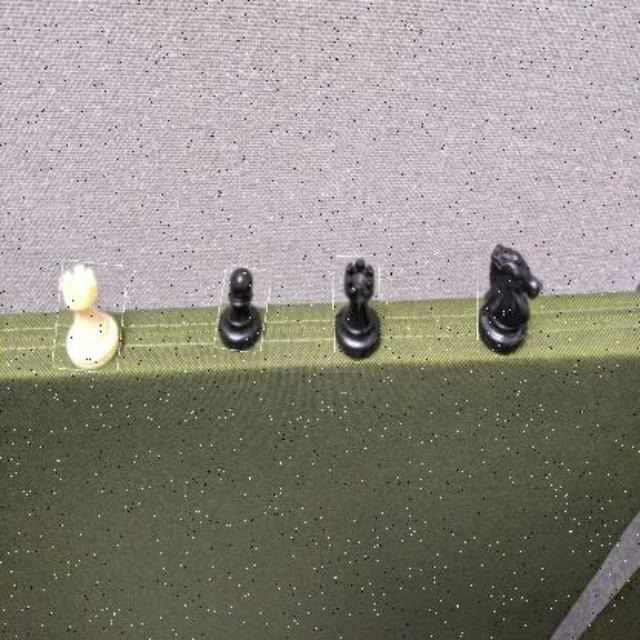black-knight: (479, 241, 543, 354)
black-pawn: (217, 267, 269, 353)
black-rook: (333, 257, 380, 361)
white-rook: (56, 262, 126, 372)
